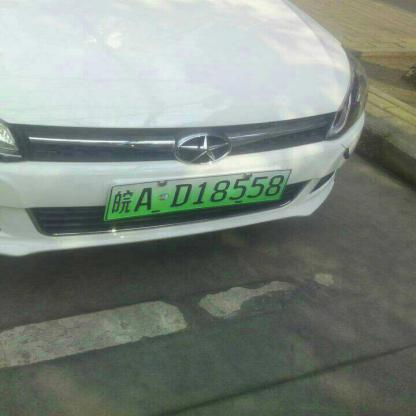lp: (105, 168, 293, 221)
